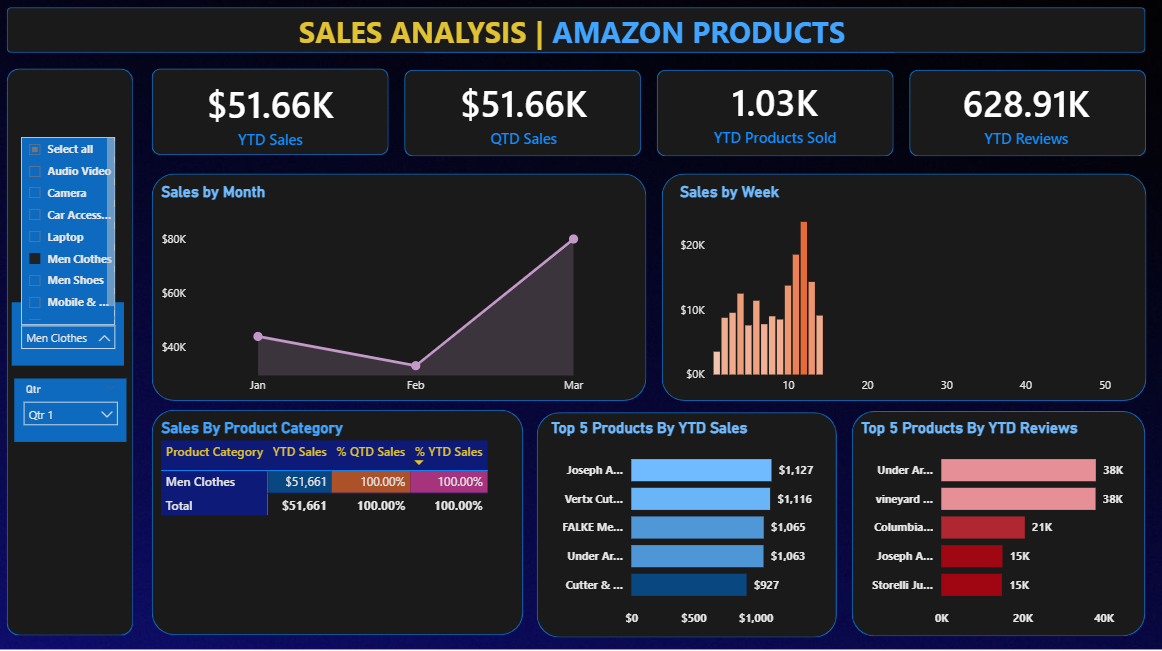

The page's visual inventory and layout, read from the dashboard file:
{"tool":"powerbi","page":{"name":"Page 1","canvas":[1280,720],"ordinal":0},"visuals":[{"type":"shape","box":[10,12.5,1250,50],"z":0},{"type":"textbox","box":[325,12.5,630,56.2],"z":1000},{"type":"shape","box":[9.7,79.6,138.7,622.5],"z":2000},{"type":"shape","box":[168.8,80,260,95],"z":3000},{"type":"card","fields":{"Values":["Amazon_Data.YTD Sales"]},"box":[186.2,75,225,106.2],"z":4000},{"type":"shape","box":[445.8,81.2,260,95],"z":5000},{"type":"card","fields":{"Values":["Amazon_Data.QTD Sales"]},"box":[467.5,86.2,218.8,83.8],"z":6000},{"type":"shape","box":[722.9,81.2,260,95],"z":7000},{"type":"shape","box":[1000,81.2,260,95],"z":8000},{"type":"card","fields":{"Values":["Amazon_Data.Products Sold"]},"box":[743.8,85,218.8,83.8],"z":9000},{"type":"card","fields":{"Values":["Amazon_Data.YTD Reviews"]},"box":[1020,86.2,218.8,83.8],"z":10000},{"type":"shape","box":[168.9,195.4,542.9,249.7],"z":11000},{"type":"areaChart","title":"Sales by Month ","fields":{"Category":["Date Table.Month Name"],"Y":["Sum(Amazon_Data.Price(Dollar))"]},"box":[174.9,203.9,532,241.3],"z":12000},{"type":"shape","box":[728.7,195.4,532,249.7],"z":13000},{"type":"columnChart","title":"Sales by Week","fields":{"Y":["Sum(Amazon_Data.Price(Dollar))"],"Category":["Date Table.Week"]},"box":[743.2,203.9,527.2,241.3],"z":14000},{"type":"shape","box":[168.9,454.8,407.8,247.3],"z":15000},{"type":"pivotTable","title":"Sales By Product Category","fields":{"Rows":["Amazon_Data.Product Category"],"Values":["Amazon_Data.YTD Sales1","Amazon_Data.QTD Sales","Amazon_Data.YTD Sales"]},"box":[174.9,464.5,460.9,247.3],"z":16000},{"type":"shape","box":[591.2,457.2,329.4,247.3],"z":17000},{"type":"shape","box":[937.4,456,322.1,247.3],"z":18000},{"type":"clusteredBarChart","title":"Top 5 Products By YTD Sales","fields":{"Category":["Amazon_Data.Product Description"],"Y":["Amazon_Data.YTD Sales"]},"box":[602.4,463.8,318.4,237.4],"z":19000},{"type":"clusteredBarChart","title":"Top 5 Products By YTD Reviews","fields":{"Category":["Amazon_Data.Product Description"],"Y":["Amazon_Data.YTD Reviews"]},"box":[942.7,463.8,318.4,237.4],"z":20000},{"type":"slicer","fields":{"Values":["Amazon_Data.Product Category"]},"box":[15.1,336.2,123.5,70],"z":21000},{"type":"slicer","fields":{"Values":["Date Table.Qtr"]},"box":[17.8,419.9,123.5,70],"z":22000}]}

Visuals, with their boxes in screenshot pixels (x1, y1, x2, y2), scaled from the page's 1280x720 canvas onto the 1162x651 screenshot:
shape: region(9, 11, 1144, 57)
textbox: region(295, 11, 867, 62)
shape: region(9, 72, 135, 635)
shape: region(153, 72, 389, 158)
card - Amazon_Data.YTD Sales: region(169, 68, 373, 164)
shape: region(405, 73, 641, 159)
card - Amazon_Data.QTD Sales: region(424, 78, 623, 154)
shape: region(656, 73, 892, 159)
shape: region(908, 73, 1144, 159)
card - Amazon_Data.Products Sold: region(675, 77, 874, 153)
card - Amazon_Data.YTD Reviews: region(926, 78, 1125, 154)
shape: region(153, 177, 646, 402)
"Sales by Month " areaChart: region(159, 184, 642, 403)
shape: region(662, 177, 1144, 402)
"Sales by Week" columnChart: region(675, 184, 1153, 403)
shape: region(153, 411, 524, 635)
"Sales By Product Category" pivotTable: region(159, 420, 577, 644)
shape: region(537, 413, 836, 637)
shape: region(851, 412, 1143, 636)
"Top 5 Products By YTD Sales" clusteredBarChart: region(547, 419, 836, 634)
"Top 5 Products By YTD Reviews" clusteredBarChart: region(856, 419, 1145, 634)
slicer - Amazon_Data.Product Category: region(14, 304, 126, 367)
slicer - Date Table.Qtr: region(16, 380, 128, 443)
